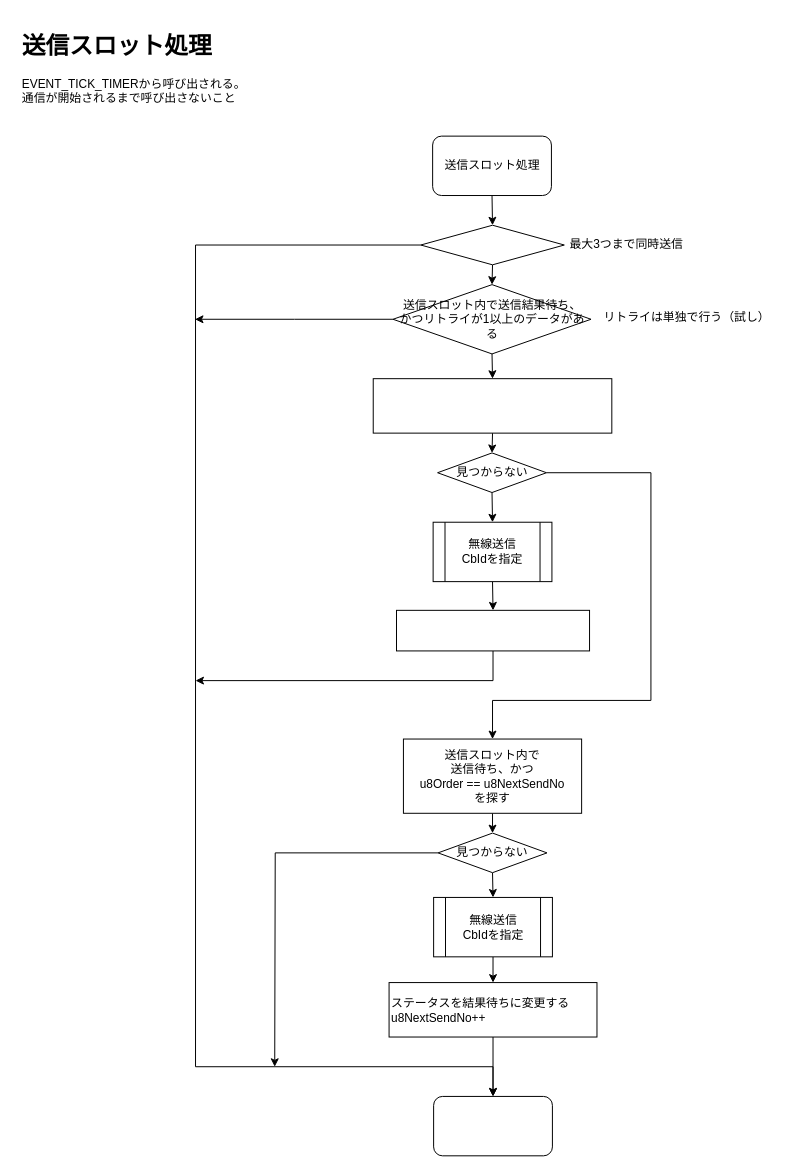
Image size: 792x1173. Some labels were removed from this diagram. The shapes that lost their labels are listed below. From the top down, each one's box as (x1, y1, x2, y2) in pixels, then its label:
(420, 224, 564, 265): radio_txCount() >= 3
(372, 378, 612, 433): 送信スロット内でリトライ送信待ちのu8Orderの中から 最も若いスロットを抽出する
(396, 609, 590, 651): ステータスを結果待ちに変更する
(433, 1095, 552, 1156): 送信スロット処理 おわり
